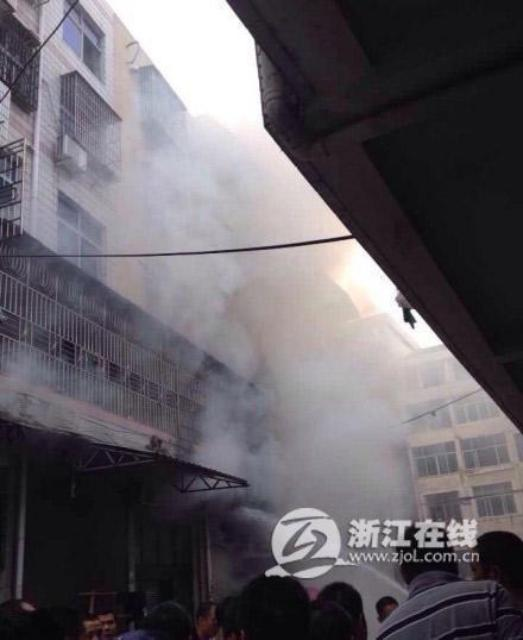smoke: (156, 250, 357, 346), (266, 350, 401, 434), (162, 146, 279, 240), (266, 440, 407, 510)
